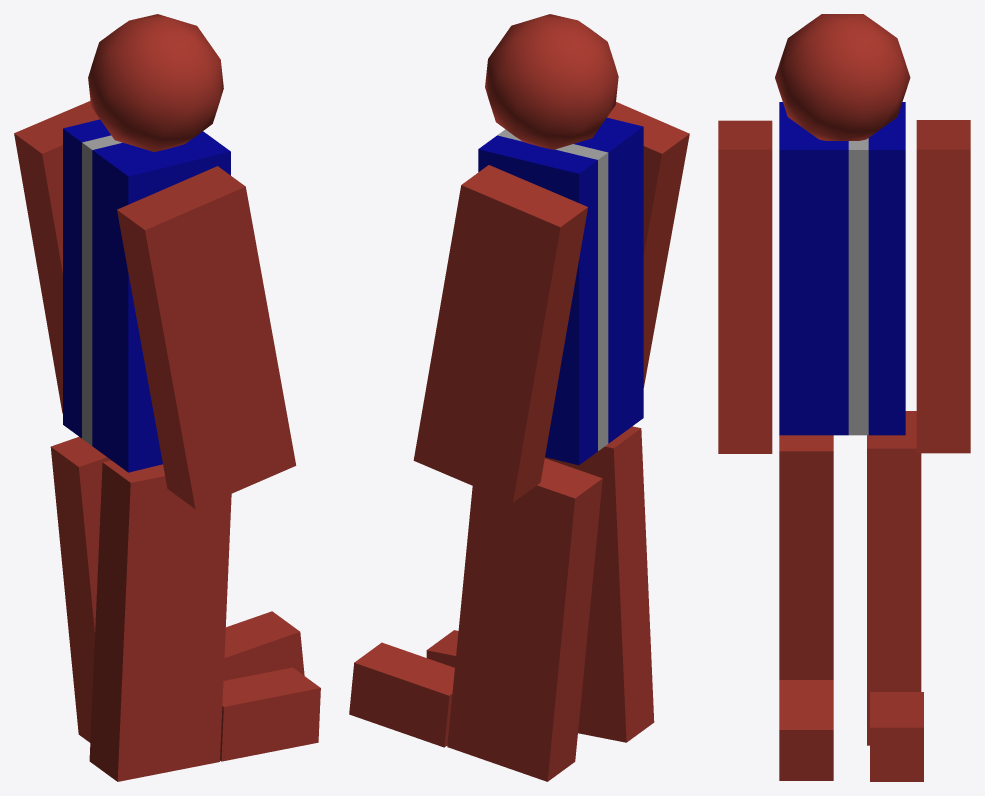
Rendered from player_000043.obj.
3 views of the same model, side by side, from view 1: azimuth 30°, elevation 25°; view 2: azimuth 150°, elevation 25°; view 3: azimuth 270°, elevation 25° (orthographic). The views are drawn at different scales.
Parts seen in each view (by area): view 1: Cube.005, Cube.001, Cube, Icosphere, Cube.002, Cube.006, Cube.003, Cube.004; view 2: Cube.006, Cube.002, Cube, Cube.001, Icosphere, Cube.004, Cube.005, Cube.003; view 3: Cube, Cube.006, Cube.005, Cube.002, Cube.001, Icosphere, Cube.003, Cube.004.
Part boxes in pixels (<box>): Cube.005: <box>117,166,296,509</box>; Cube.001: <box>89,460,231,781</box>; Cube: <box>63,119,230,472</box>; Icosphere: <box>88,14,223,151</box>; Cube.002: <box>50,437,111,742</box>; Cube.006: <box>14,101,99,413</box>; Cube.003: <box>220,667,320,761</box>; Cube.004: <box>223,611,304,680</box>; Cube.006: <box>413,165,587,502</box>; Cube.002: <box>447,458,602,781</box>; Cube: <box>478,117,643,465</box>; Cube.001: <box>545,426,654,742</box>; Icosphere: <box>485,14,618,149</box>; Cube.004: <box>349,642,454,747</box>; Cube.005: <box>607,102,689,387</box>; Cube.003: <box>426,630,458,667</box>; Cube: <box>779,102,905,435</box>; Cube.006: <box>916,120,970,453</box>; Cube.005: <box>718,120,772,453</box>; Cube.002: <box>867,411,921,745</box>; Cube.001: <box>779,435,833,679</box>; Icosphere: <box>775,14,910,140</box>; Cube.003: <box>779,680,833,780</box>; Cube.004: <box>870,692,923,781</box>.
Bounding box in the file's own units: 0.9619 × 2.82 × 0.9137.
